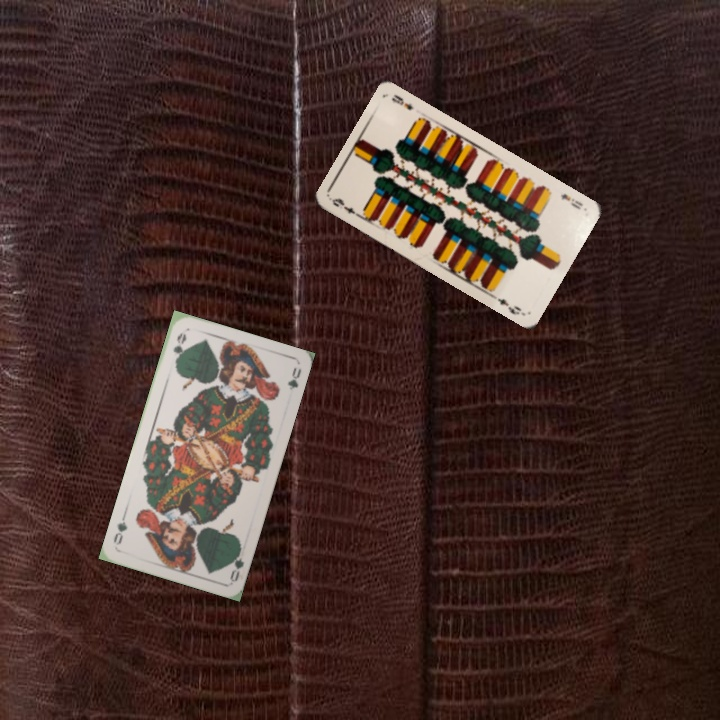E9: (328, 194, 366, 221), (556, 189, 585, 212)
GO: (225, 542, 247, 584), (169, 329, 189, 368)
